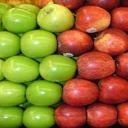apple: (98, 76, 128, 105)
